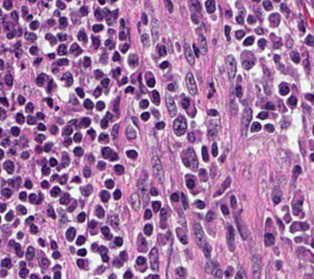nucleus: (182, 148, 197, 170), (214, 177, 230, 196), (235, 215, 247, 239), (152, 155, 163, 181), (138, 177, 148, 205), (173, 116, 186, 135), (165, 94, 176, 116), (194, 223, 204, 247), (184, 42, 194, 65), (226, 55, 236, 78), (242, 108, 251, 133), (186, 73, 196, 95), (149, 247, 158, 271), (251, 254, 260, 278), (208, 120, 218, 138), (227, 225, 234, 250), (176, 228, 187, 243), (198, 34, 206, 54), (130, 193, 139, 210), (273, 187, 281, 204), (138, 234, 146, 251), (202, 242, 211, 257), (70, 43, 81, 55), (62, 72, 72, 85), (81, 185, 92, 196), (126, 126, 136, 138), (3, 161, 13, 173), (101, 226, 111, 238), (264, 233, 274, 245), (128, 54, 137, 67), (66, 227, 75, 240), (151, 90, 159, 104), (26, 246, 34, 260), (36, 74, 46, 85), (102, 147, 112, 158), (206, 262, 217, 272), (109, 215, 118, 227), (59, 210, 66, 225), (141, 34, 149, 47), (46, 34, 56, 44), (83, 99, 93, 109), (1, 258, 11, 268), (25, 32, 36, 41), (242, 60, 253, 69), (100, 190, 109, 201), (60, 193, 69, 204), (95, 206, 104, 217), (111, 124, 118, 138), (62, 152, 69, 166), (78, 30, 86, 42), (199, 169, 207, 181), (47, 206, 55, 218), (160, 208, 167, 221), (15, 243, 22, 256), (243, 36, 253, 45), (105, 39, 114, 49), (57, 44, 66, 54), (113, 97, 119, 112), (250, 122, 260, 131), (202, 146, 208, 161), (114, 164, 123, 174), (50, 187, 60, 196), (181, 193, 187, 208), (67, 201, 76, 211), (40, 257, 49, 267), (181, 98, 189, 109), (126, 150, 137, 158), (144, 224, 152, 235), (235, 85, 242, 97), (99, 133, 108, 142), (73, 147, 82, 156), (2, 188, 11, 197), (17, 205, 26, 214), (113, 258, 122, 267), (176, 267, 185, 276), (158, 46, 166, 56), (76, 87, 84, 97), (16, 113, 24, 123), (87, 129, 95, 139), (35, 134, 45, 142), (186, 178, 194, 188), (152, 201, 160, 211), (206, 211, 214, 221), (19, 267, 27, 277), (213, 267, 221, 277), (92, 36, 99, 47), (5, 74, 12, 85), (235, 30, 244, 38), (140, 99, 148, 108), (96, 101, 104, 110), (25, 103, 33, 112), (81, 118, 90, 126), (265, 124, 274, 132), (63, 127, 72, 135), (73, 133, 81, 142), (43, 143, 52, 151), (109, 151, 117, 160), (105, 179, 113, 188), (230, 195, 236, 207), (195, 200, 204, 208), (5, 211, 13, 220), (77, 212, 85, 221), (76, 236, 84, 245), (114, 237, 122, 246), (136, 256, 145, 264), (258, 39, 265, 49), (264, 102, 274, 109), (257, 112, 267, 119), (100, 118, 107, 128), (83, 167, 90, 177), (57, 59, 68, 65), (48, 80, 54, 91), (212, 143, 217, 156), (101, 78, 109, 86), (141, 112, 149, 120), (27, 116, 35, 124), (11, 127, 19, 135), (1, 138, 9, 146), (97, 161, 105, 169), (170, 193, 178, 201), (25, 216, 33, 224), (99, 246, 107, 254), (57, 33, 66, 40), (113, 68, 120, 77), (147, 78, 154, 87), (94, 87, 101, 96), (59, 175, 66, 184), (113, 190, 120, 199), (29, 193, 36, 202), (221, 205, 228, 214), (144, 209, 151, 218), (30, 224, 37, 233), (120, 251, 127, 260), (225, 267, 232, 276), (193, 44, 198, 56), (100, 53, 106, 63), (36, 193, 42, 203), (277, 219, 283, 229), (7, 30, 14, 38), (274, 40, 281, 48), (121, 44, 128, 52), (30, 46, 37, 54), (160, 61, 168, 68), (95, 70, 102, 78), (0, 97, 7, 105), (105, 112, 112, 120), (156, 122, 164, 129), (50, 125, 57, 133), (42, 166, 49, 174), (41, 180, 48, 188), (150, 187, 157, 195), (89, 220, 96, 228), (91, 243, 98, 251), (52, 251, 60, 258), (101, 253, 108, 261), (84, 57, 90, 66), (18, 95, 24, 104), (208, 109, 217, 115), (188, 132, 194, 141), (77, 249, 86, 255), (119, 77, 126, 84), (167, 84, 174, 91), (38, 123, 45, 130), (64, 138, 71, 145), (21, 151, 28, 158), (49, 158, 56, 165), (113, 52, 119, 60), (125, 86, 133, 92), (152, 109, 158, 117), (72, 176, 80, 182), (25, 180, 31, 188), (19, 192, 25, 200), (38, 238, 44, 246), (77, 259, 83, 267), (0, 203, 5, 212), (119, 32, 125, 39), (34, 58, 41, 64), (37, 112, 44, 118), (47, 98, 52, 106), (132, 117, 137, 125), (276, 261, 281, 269), (8, 179, 14, 185), (88, 155, 93, 162), (48, 53, 54, 58), (274, 55, 279, 61), (36, 146, 41, 152), (17, 232, 22, 238), (9, 240, 15, 245), (220, 155, 224, 162), (0, 150, 3, 159), (9, 149, 14, 154), (0, 60, 3, 68), (16, 177, 20, 183), (16, 51, 20, 56), (52, 175, 57, 179), (20, 262, 24, 267), (1, 109, 4, 115), (70, 247, 73, 252), (55, 265, 60, 268), (53, 69, 57, 72)
